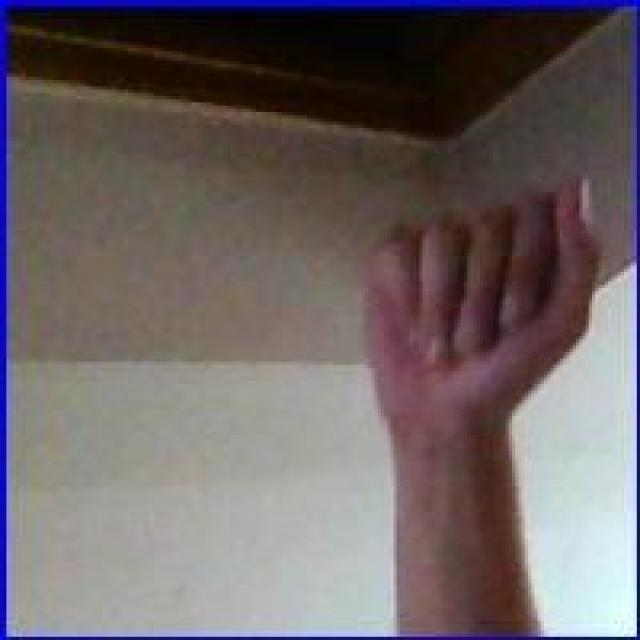A: (363, 174, 610, 437)
